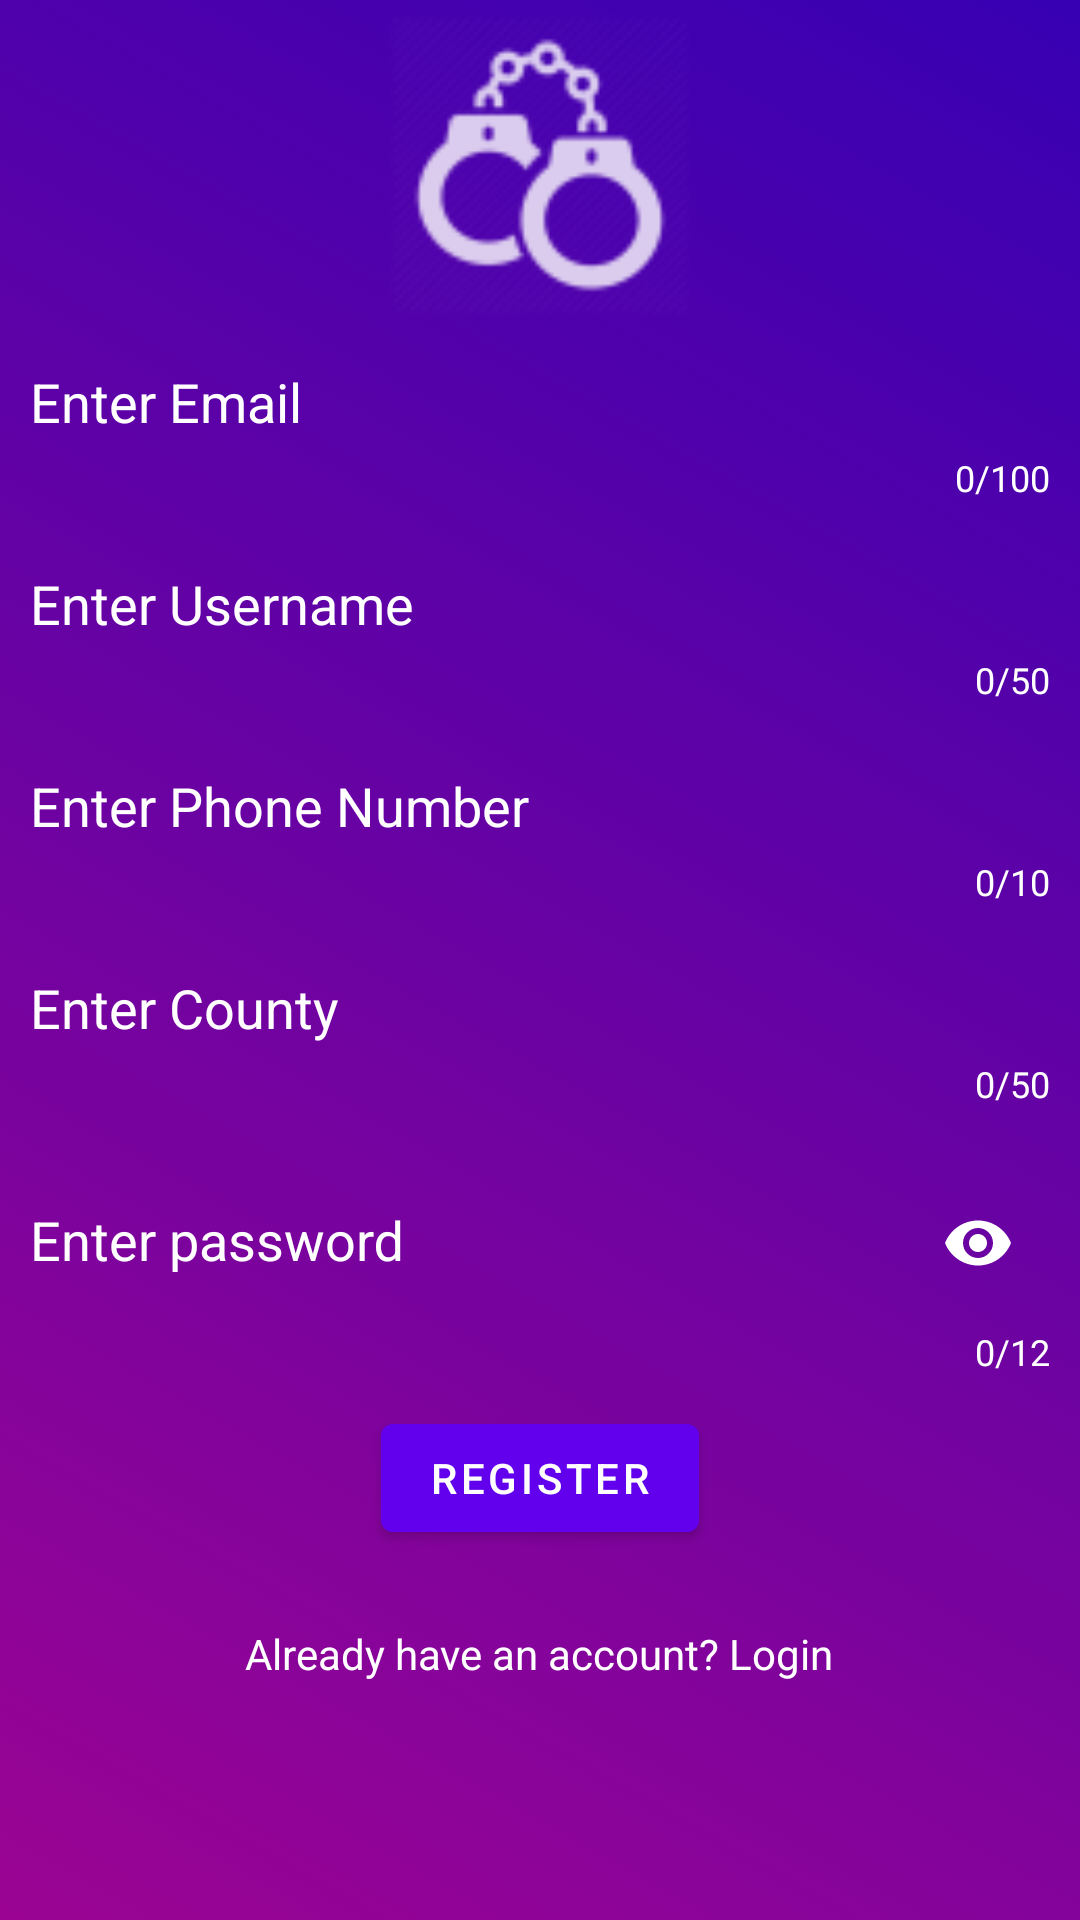

Where to tap for icons on this 1080px x 1920px app screen, as point (x, y):
handcuffs: point (540, 165)
